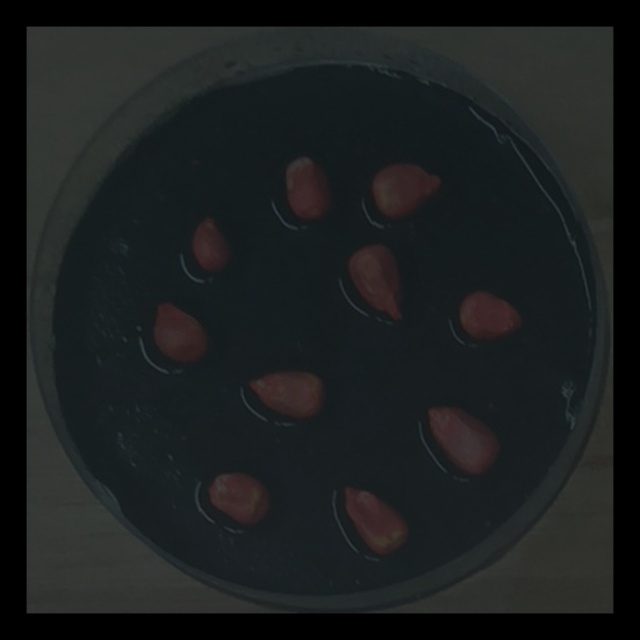Zea mays: (419, 397, 506, 482), (336, 476, 415, 560), (341, 234, 410, 327), (364, 156, 449, 225), (242, 362, 332, 426), (147, 295, 216, 369), (202, 463, 277, 530), (452, 282, 529, 347), (277, 147, 337, 229), (186, 209, 239, 277)
